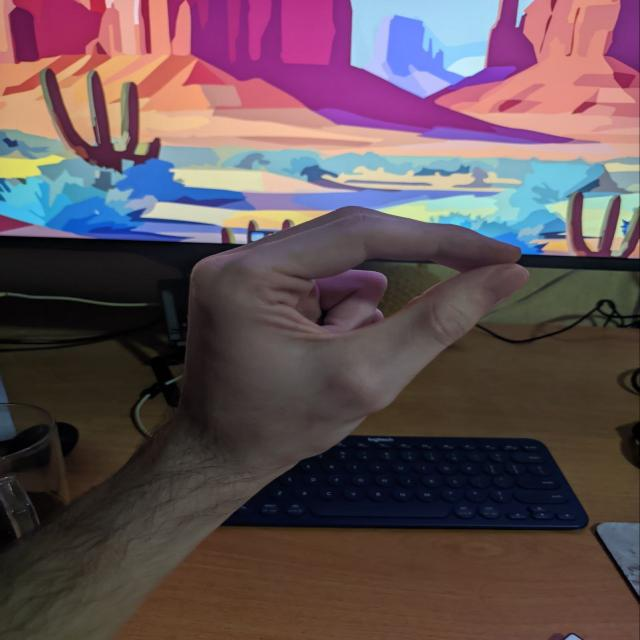ch: (146, 192, 528, 463)
